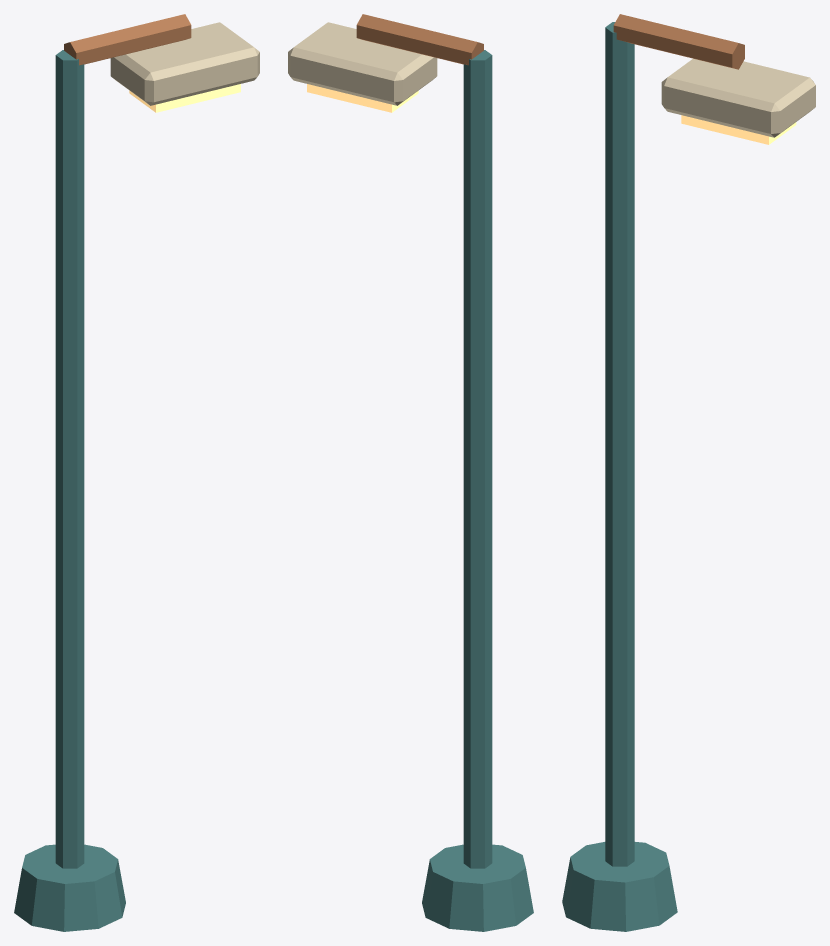
Rendered from hsc3_streetlamp.glb.
The picture shows the model from 3 angles, left to right: view 1: azimuth 30°, elevation 25°; view 2: azimuth 150°, elevation 25°; view 3: azimuth 330°, elevation 25°; orthographic projection. The views are drawn at different scales.
Parts seen in each view (by area): view 1: hsc3_streetlamp__hsc3-deep-teal, hsc3_streetlamp__hsc3-cream-enamel, hsc3_streetlamp__hsc3-roasted-copper, hsc3_streetlamp__hsc3-emissive-warm; view 2: hsc3_streetlamp__hsc3-deep-teal, hsc3_streetlamp__hsc3-cream-enamel, hsc3_streetlamp__hsc3-roasted-copper, hsc3_streetlamp__hsc3-emissive-warm; view 3: hsc3_streetlamp__hsc3-deep-teal, hsc3_streetlamp__hsc3-cream-enamel, hsc3_streetlamp__hsc3-roasted-copper, hsc3_streetlamp__hsc3-emissive-warm.
Boxes of the visible parts, bbox=[...] form: hsc3_streetlamp__hsc3-deep-teal: bbox=[14, 50, 125, 931]; hsc3_streetlamp__hsc3-cream-enamel: bbox=[110, 22, 259, 105]; hsc3_streetlamp__hsc3-roasted-copper: bbox=[64, 14, 191, 65]; hsc3_streetlamp__hsc3-emissive-warm: bbox=[129, 84, 240, 112]; hsc3_streetlamp__hsc3-deep-teal: bbox=[422, 50, 533, 931]; hsc3_streetlamp__hsc3-cream-enamel: bbox=[288, 22, 437, 105]; hsc3_streetlamp__hsc3-roasted-copper: bbox=[356, 14, 483, 65]; hsc3_streetlamp__hsc3-emissive-warm: bbox=[307, 84, 418, 112]; hsc3_streetlamp__hsc3-deep-teal: bbox=[562, 22, 677, 931]; hsc3_streetlamp__hsc3-cream-enamel: bbox=[661, 58, 815, 137]; hsc3_streetlamp__hsc3-roasted-copper: bbox=[613, 14, 744, 69]; hsc3_streetlamp__hsc3-emissive-warm: bbox=[681, 115, 796, 144].
Size of the model in its own units: 1.24 by 4.67 by 0.56.
